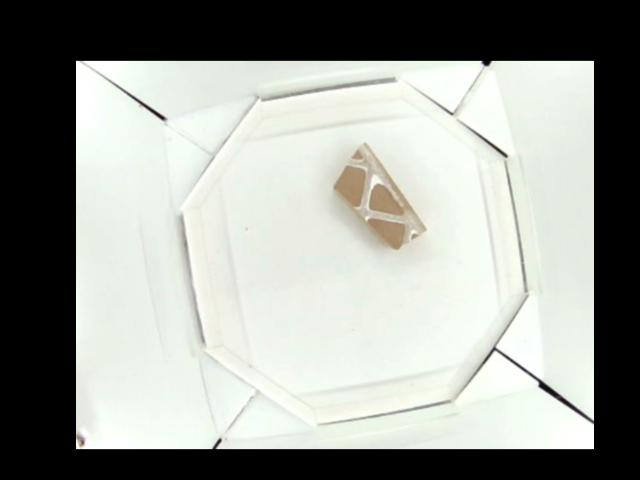China: (335, 142, 424, 250)
